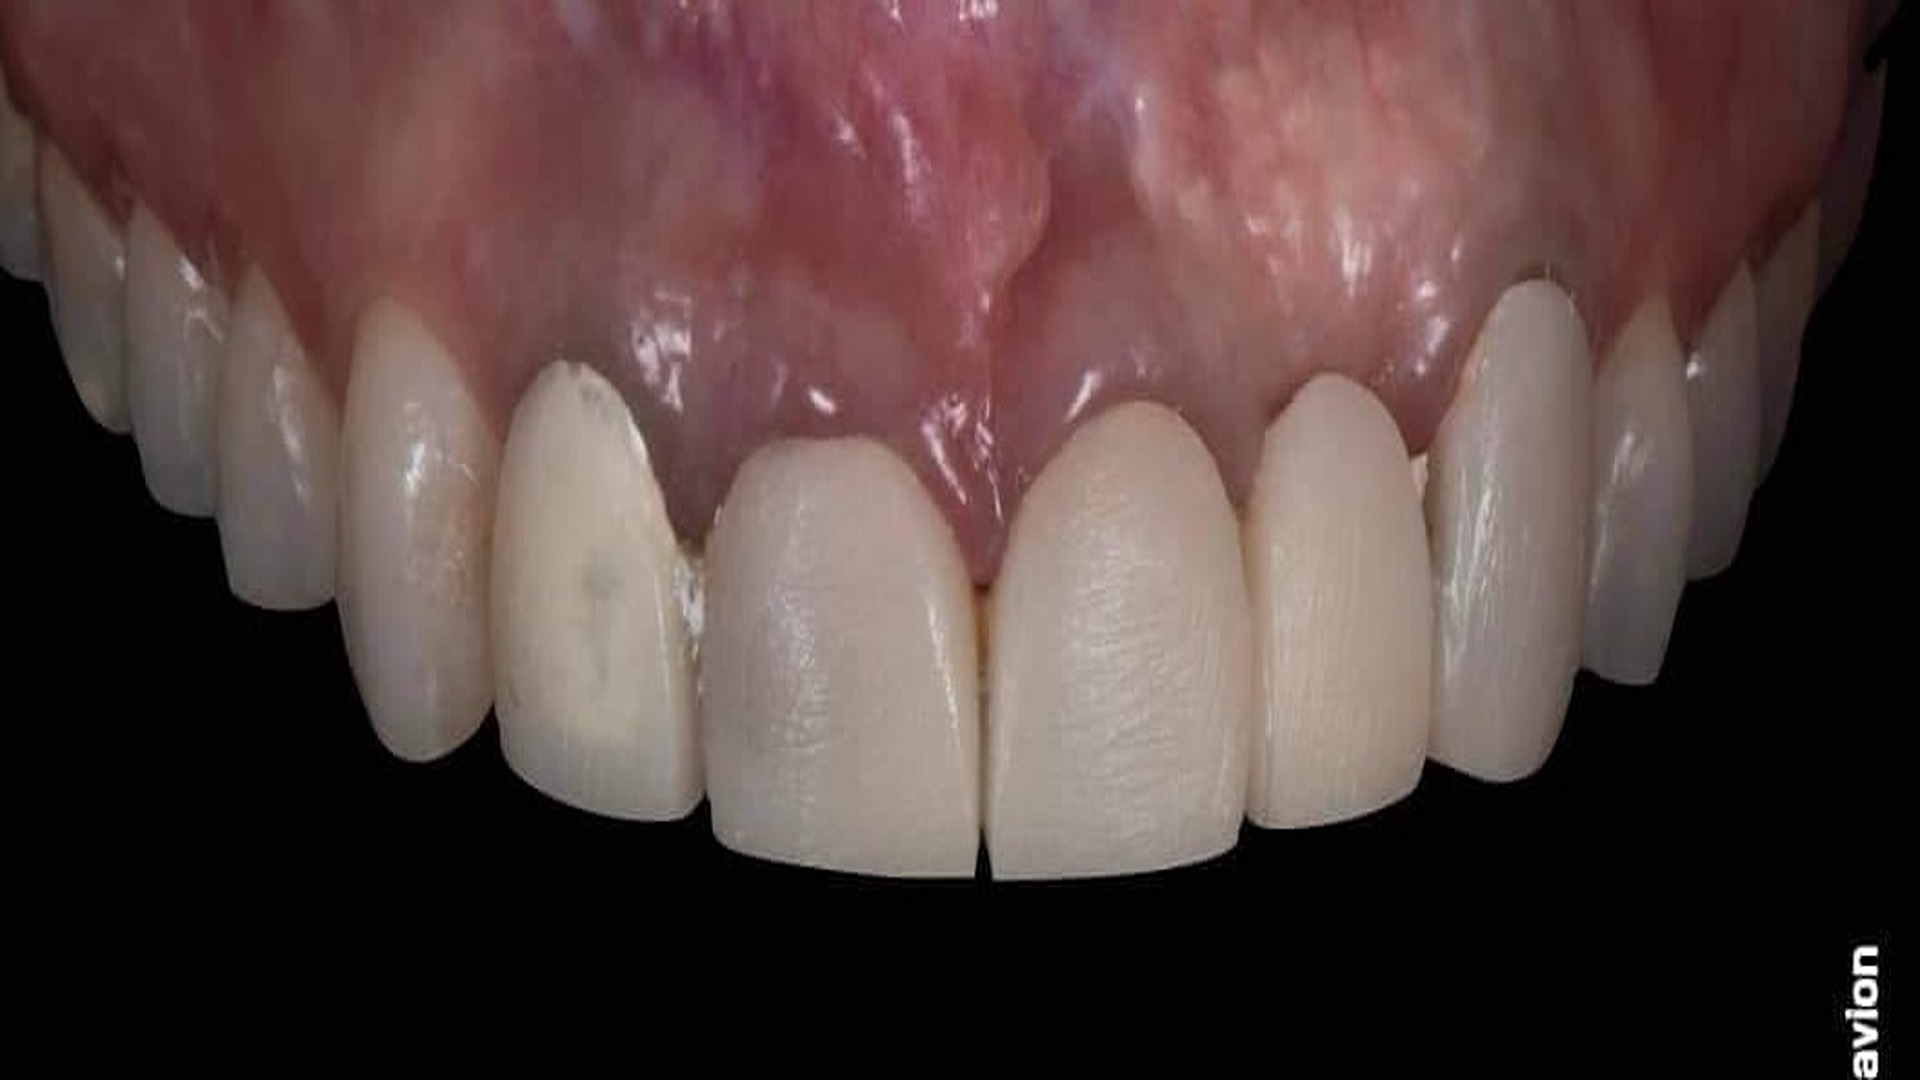tooth: (982, 400, 1251, 880), (698, 436, 980, 878), (491, 359, 705, 822), (1423, 277, 1596, 782), (1244, 372, 1433, 829), (335, 297, 498, 764), (1582, 295, 1695, 686), (215, 262, 339, 612), (127, 200, 229, 517), (36, 129, 132, 434), (1687, 258, 1763, 580)
